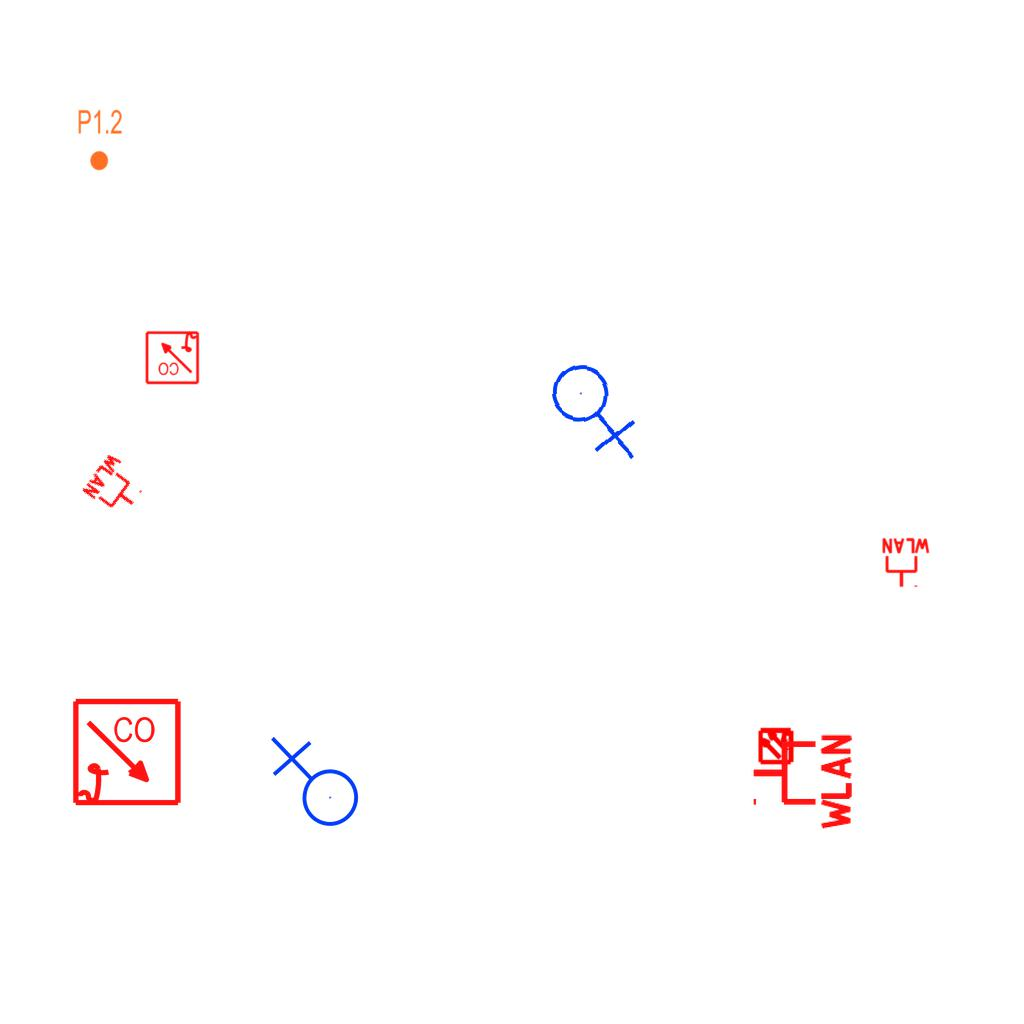Downlight_LED_Einbauleuchten_Flur: (77, 108, 123, 172)
Elektroanschluss_allgemein_230V_Geraeteanschlussdose_230V: (545, 353, 648, 461), (266, 736, 360, 835)
OT_Multisensormelder_(Kombination_RMO_WMD): (748, 717, 804, 773)
ROA_Rauchmelder_optisch_mit_Signalgeber_(Sockelsirene): (71, 697, 184, 810), (144, 329, 200, 385)
WLAN: (749, 730, 854, 834), (79, 449, 153, 523), (880, 537, 932, 589)
